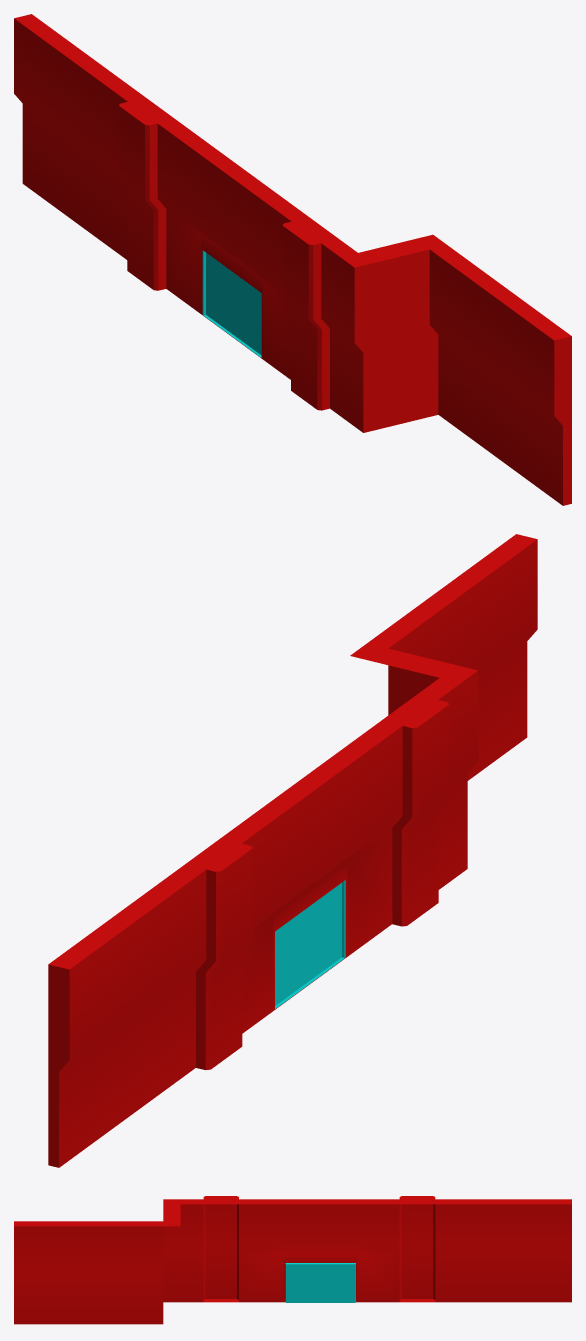
File: backWall Unity.fbx
The picture shows the model from 3 angles, top to bottom: view 1: azimuth 30°, elevation 25°; view 2: azimuth 150°, elevation 25°; view 3: azimuth 270°, elevation 25°; orthographic projection. The views are drawn at different scales.
Visible parts, largest first — view 1: backWallPainterUnity; view 2: backWallPainterUnity; view 3: backWallPainterUnity.
Boxes of the visible parts, x1,y1,x2,y2 form: backWallPainterUnity: (14,14,571,505); backWallPainterUnity: (48,534,537,1167); backWallPainterUnity: (14,1196,571,1324).
Bounding box in the file's own units: 11.5 × 17.77 × 89.44.
